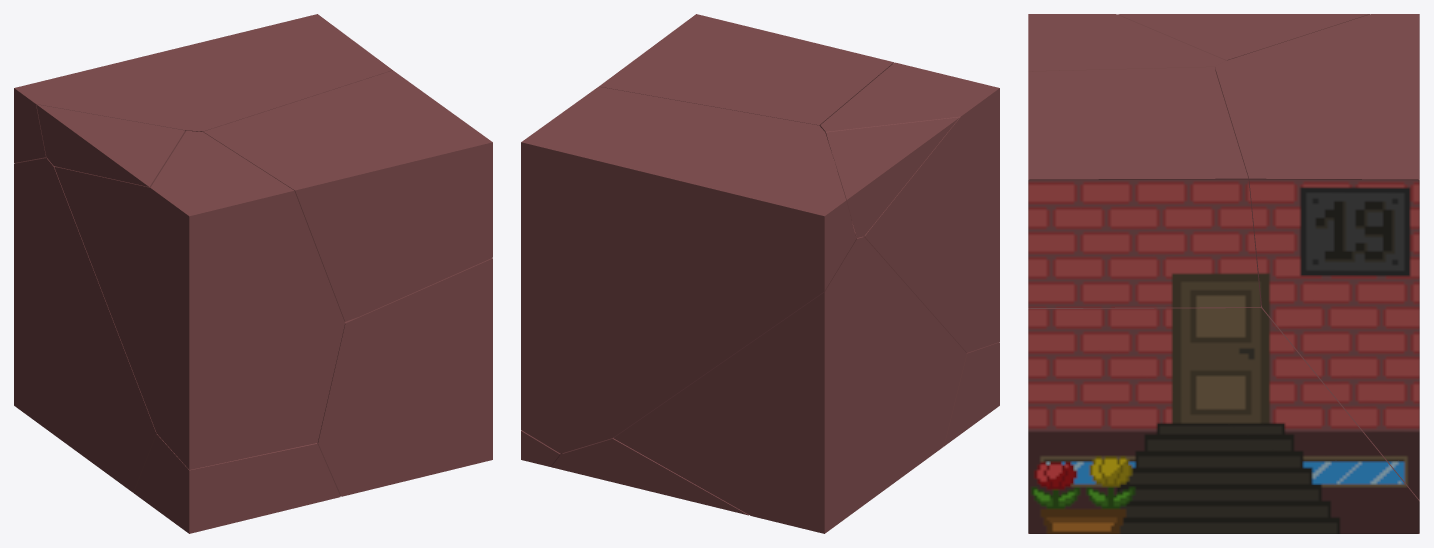
Rendered from BrickBuildingRed128x128_Ground01_break.fbx.
3 views of the same model, side by side, from view 1: azimuth 30°, elevation 25°; view 2: azimuth 150°, elevation 25°; view 3: azimuth 270°, elevation 25° (orthographic). The views are drawn at different scales.
Parts seen in each view (by area): view 1: Ground01Break06, Ground01Break02, Ground01Break05, Ground01Break07, Ground01Break01, Ground01Break04, Ground01Break03; view 2: Ground01Break01, Ground01Break07, Ground01Break06, Ground01Break02, Ground01Break03, Ground01Break08, Ground01Break04, Ground01Break05; view 3: Ground01Break05, Ground01Break01, Ground01Break02, Ground01Break06, Ground01Break03.
Boxes of the visible parts, x1,y1,x2,y2 form: Ground01Break06: [54, 130, 344, 469]; Ground01Break02: [203, 70, 492, 321]; Ground01Break05: [317, 258, 492, 496]; Ground01Break07: [14, 158, 156, 492]; Ground01Break01: [14, 14, 392, 163]; Ground01Break04: [134, 434, 340, 533]; Ground01Break03: [36, 104, 184, 186]; Ground01Break01: [521, 86, 856, 453]; Ground01Break07: [613, 234, 966, 533]; Ground01Break06: [820, 62, 999, 352]; Ground01Break02: [599, 14, 893, 125]; Ground01Break03: [826, 117, 959, 237]; Ground01Break08: [551, 438, 748, 515]; Ground01Break04: [944, 342, 999, 446]; Ground01Break05: [521, 430, 562, 466]; Ground01Break05: [1028, 305, 1419, 533]; Ground01Break01: [1215, 14, 1419, 499]; Ground01Break02: [1028, 67, 1260, 308]; Ground01Break06: [1028, 14, 1226, 71]; Ground01Break03: [1118, 14, 1369, 60].
Size of the model in its own units: 100 by 100 by 100.
Materials: 1 (1 with a texture image).
